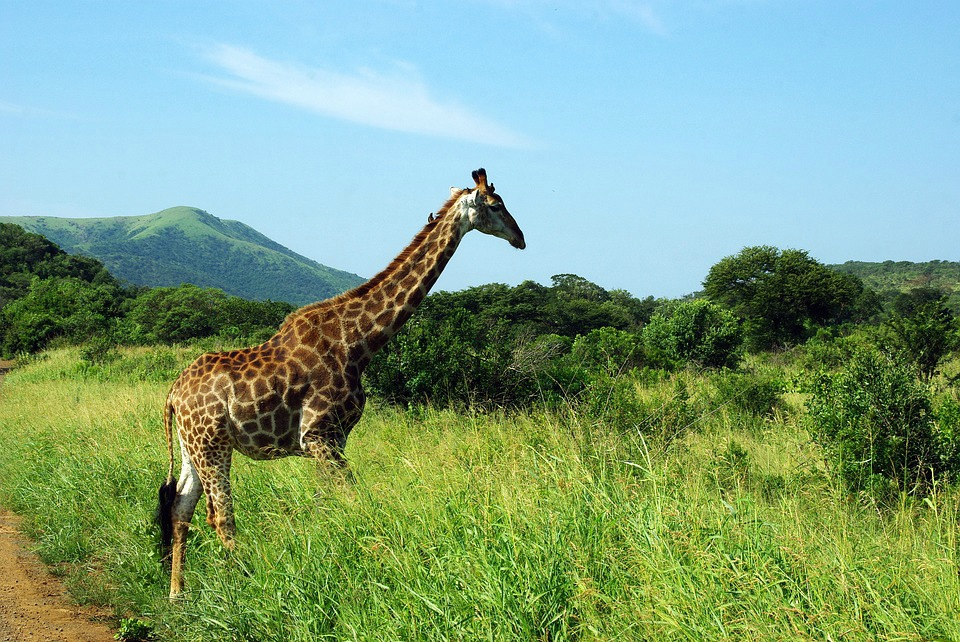Jirafa: (395, 161, 628, 295)
